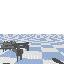drone: (0, 41, 29, 62)
